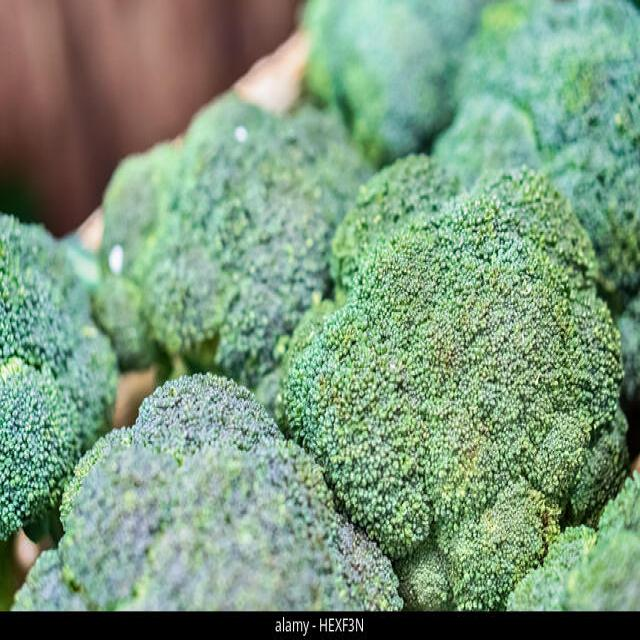broccoli: (284, 169, 636, 604), (14, 371, 404, 614)
